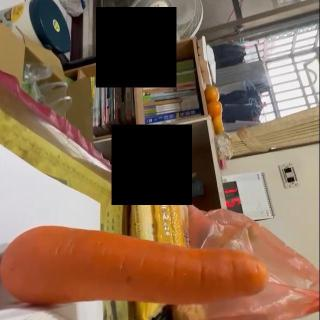carrot: (0, 223, 270, 305)
